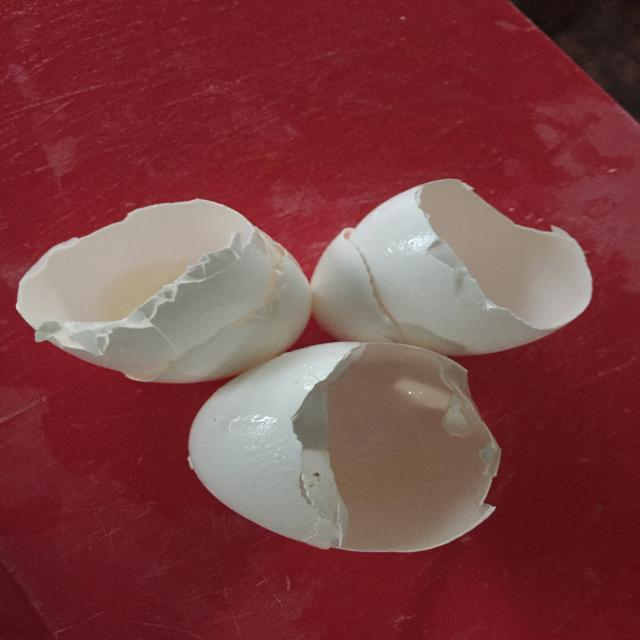egg shell: (178, 335, 508, 558), (11, 192, 321, 392), (297, 171, 600, 368)
